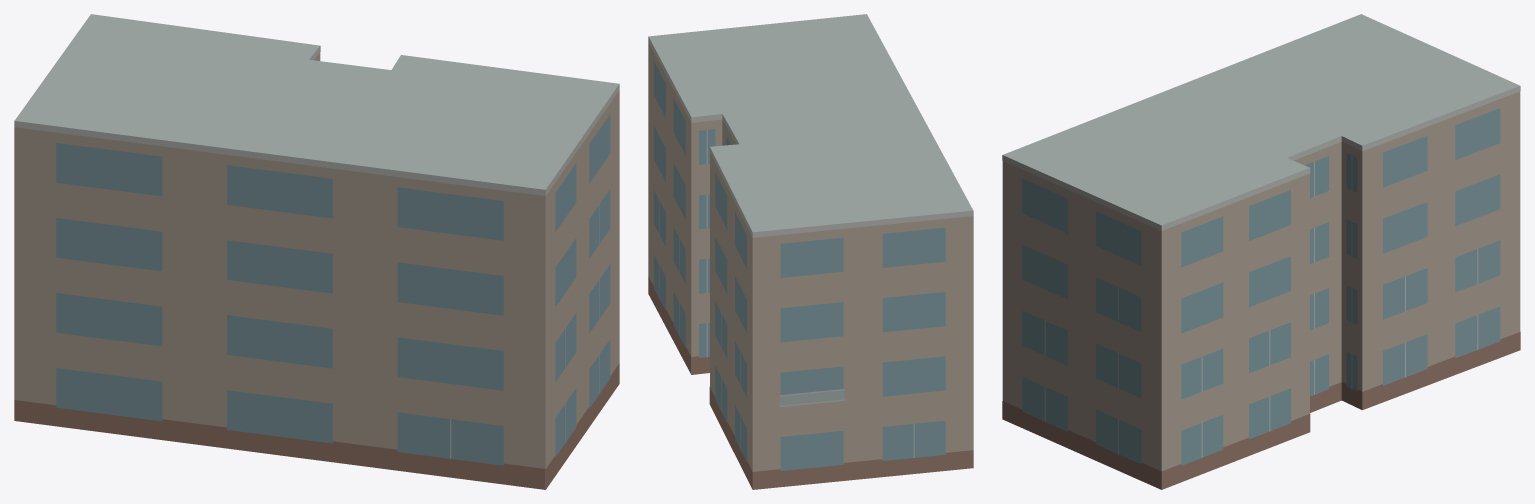
File: survey-upis-32563201.glb
3 views of the same model, side by side, from view 1: azimuth 30°, elevation 25°; view 2: azimuth 150°, elevation 25°; view 3: azimuth 270°, elevation 25° (orthographic). The views are drawn at different scales.
Parts seen in each view (by area): view 1: survey-upis-32563201.tmp; view 2: survey-upis-32563201.tmp; view 3: survey-upis-32563201.tmp.
Boxes of the visible parts, x1,y1,x2,y2 form: survey-upis-32563201.tmp: (14,14,619,489); survey-upis-32563201.tmp: (648,14,973,489); survey-upis-32563201.tmp: (1002,14,1520,489).
Bounding box in the file's own units: 19.83 × 11.55 × 20.52.
